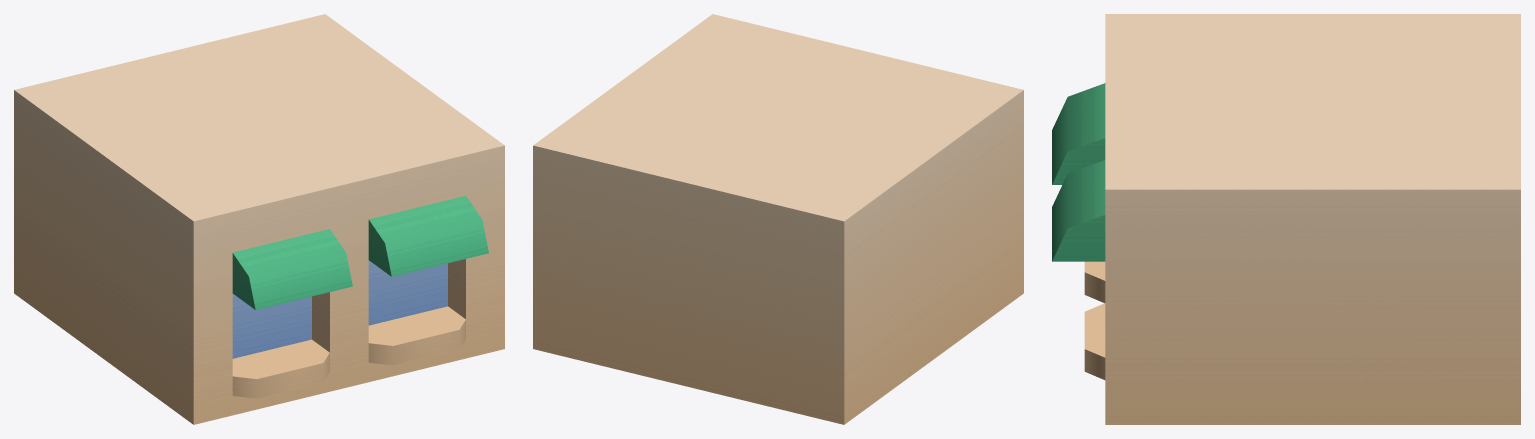
Rendered from building_window_awnings.glb.
3 views of the same model, side by side, from view 1: azimuth 30°, elevation 25°; view 2: azimuth 150°, elevation 25°; view 3: azimuth 270°, elevation 25° (orthographic). The views are drawn at different scales.
Parts seen in each view (by area): view 1: building-window-awnings; view 2: building-window-awnings; view 3: building-window-awnings.
Part boxes in pixels (x1,y1,x2,y2): building-window-awnings: (14, 14, 504, 424); building-window-awnings: (533, 14, 1023, 424); building-window-awnings: (1052, 14, 1520, 424).
Bounding box in the file's own units: 1 × 0.625 × 1.13.
1 material, 1 textured.
